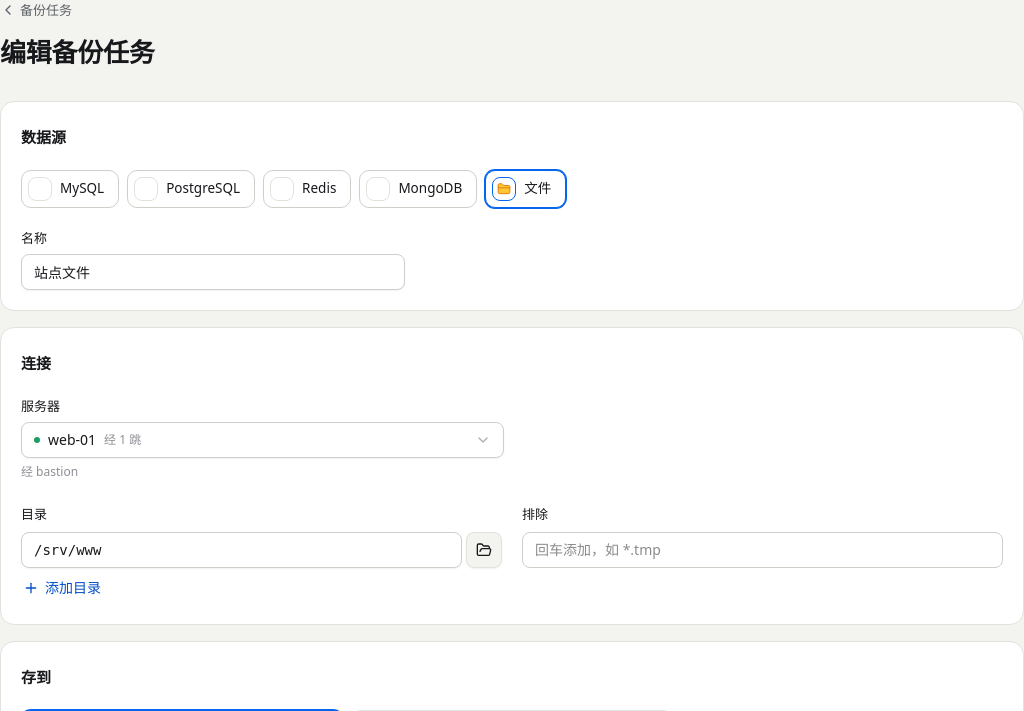
目录浏览 › 手改路径后已确认提示消失
Click the button named "浏览目录 1". click: (484, 550)
box: top-left (466, 532), bottom-right (502, 568)
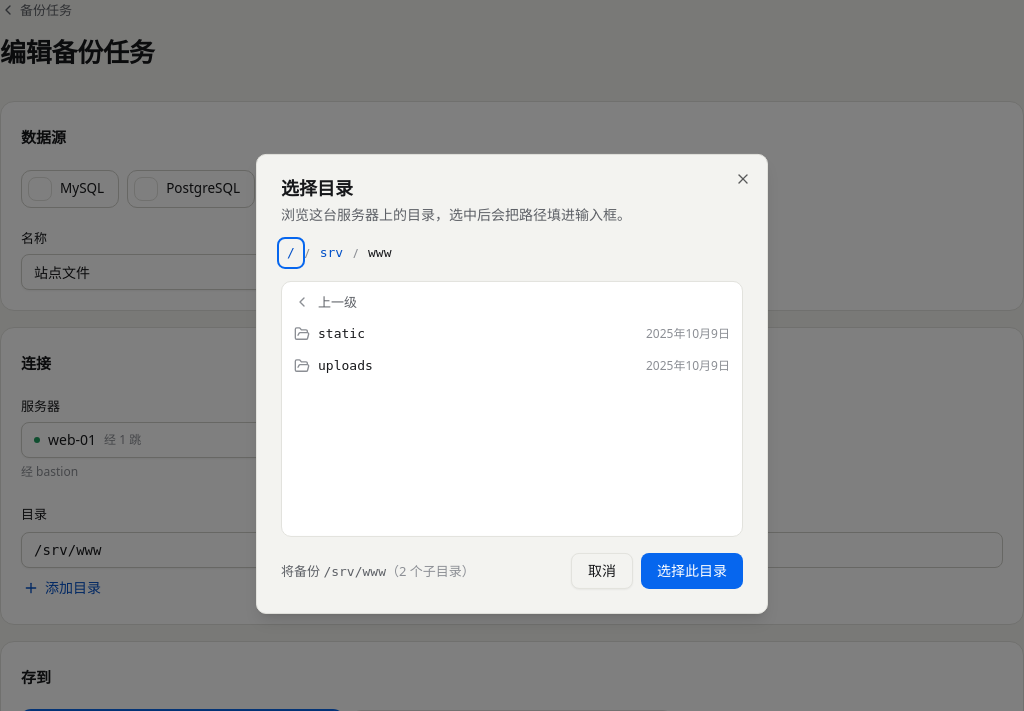
Click the button "选择此目录". click: (692, 571)
box: top-left (641, 553), bottom-right (743, 589)
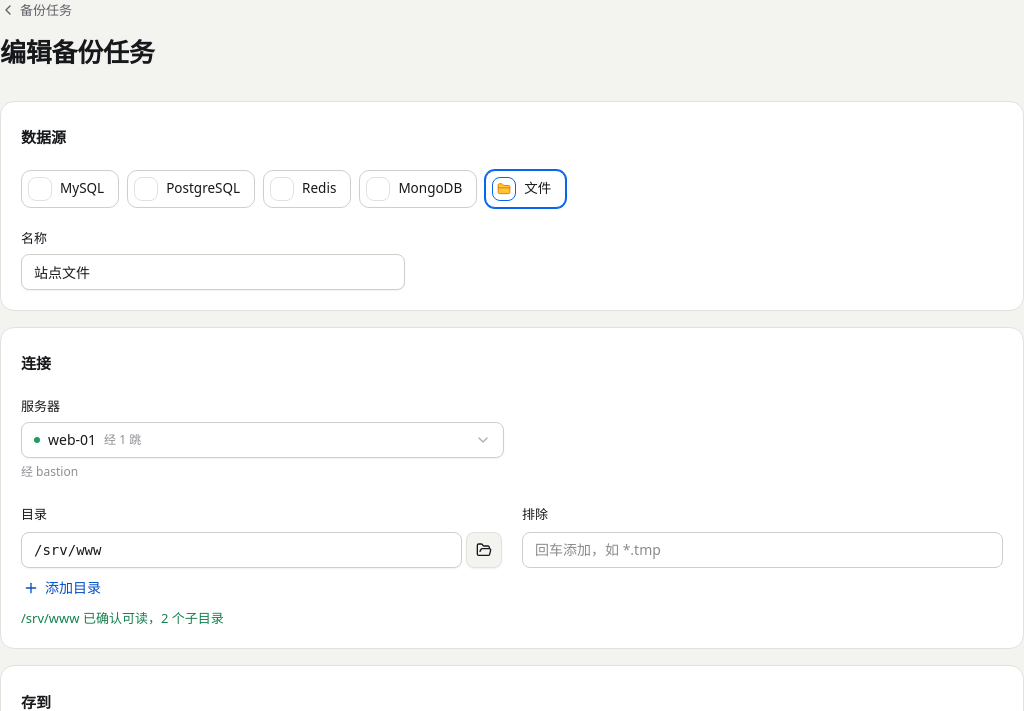
Now the text "/srv/www 已确认可读，2 个子目录" is shown, box top-left (21, 609), bottom-right (224, 627)
Type "x" into the field named "目录 1". click: (242, 550)
box: top-left (21, 532), bottom-right (462, 568)
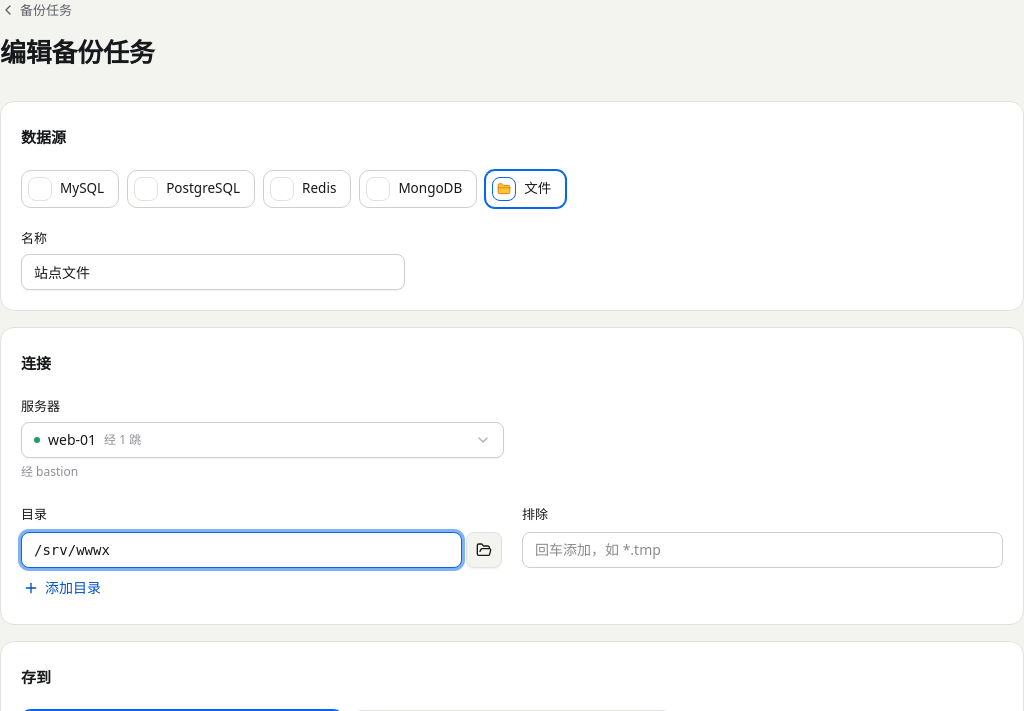
Now the text "已确认可读" is gone
